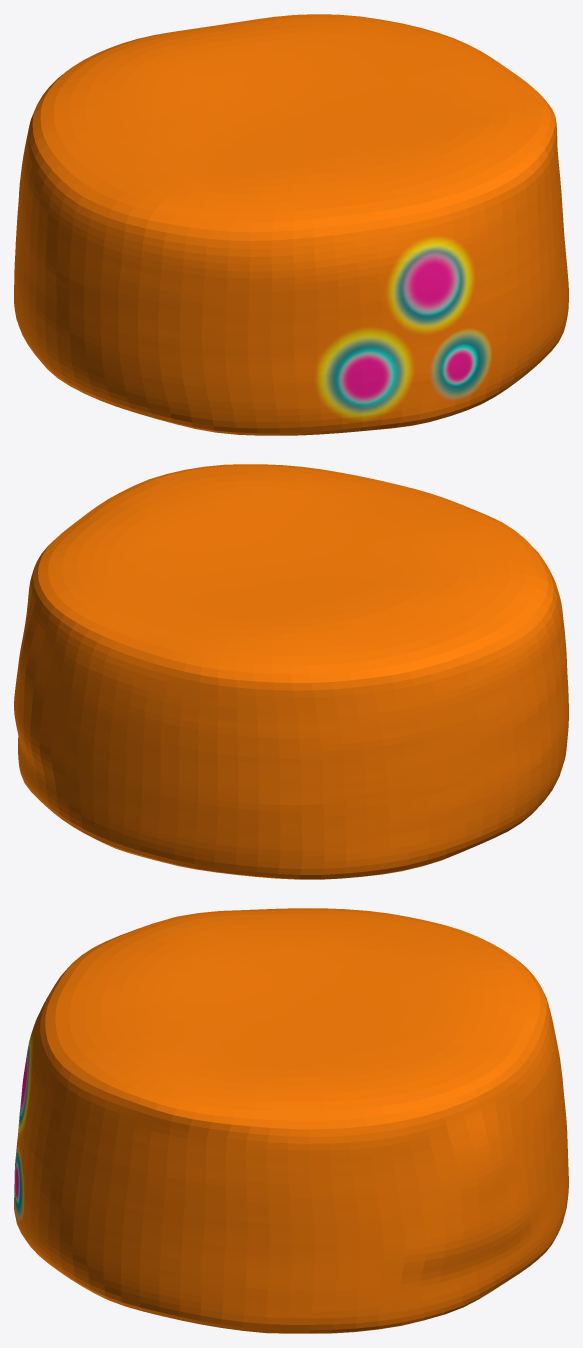
The model's file is oleum.gltf.
3 views of the same model, one above another, from view 1: azimuth 30°, elevation 25°; view 2: azimuth 150°, elevation 25°; view 3: azimuth 270°, elevation 25° (orthographic). The views are drawn at different scales.
Visible parts, largest first — view 1: Retopo_Cylinder; view 2: Retopo_Cylinder; view 3: Retopo_Cylinder.
Part boxes in pixels (x1,y1,x2,y2): Retopo_Cylinder: [14, 14, 568, 435]; Retopo_Cylinder: [14, 464, 568, 879]; Retopo_Cylinder: [14, 908, 568, 1333].
Bounding box in the file's own units: 5.21 × 2.3 × 5.08.
Materials: 1 (1 with a texture image).
